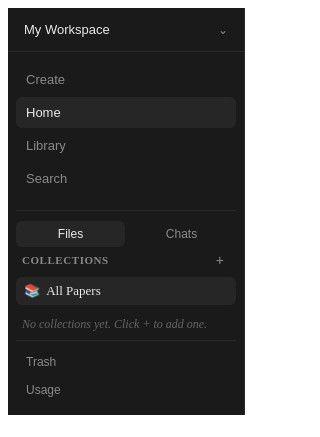
Scenario: Sidebar › shows the Trash stub linking [P2-08]
Click the button "Trash": [126, 362] box [16, 349, 236, 375]
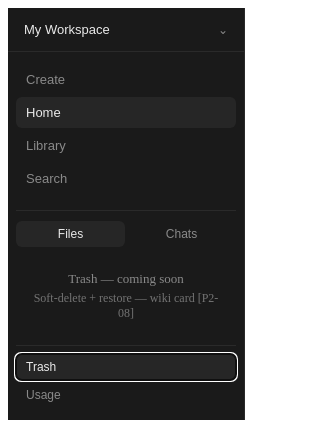
Expected: the text "Trash — coming soon" is shown, [68, 271, 184, 287]
Expected: the text "Soft-delete + restore — wiki card [P2-08]" is shown, [32, 291, 220, 321]
